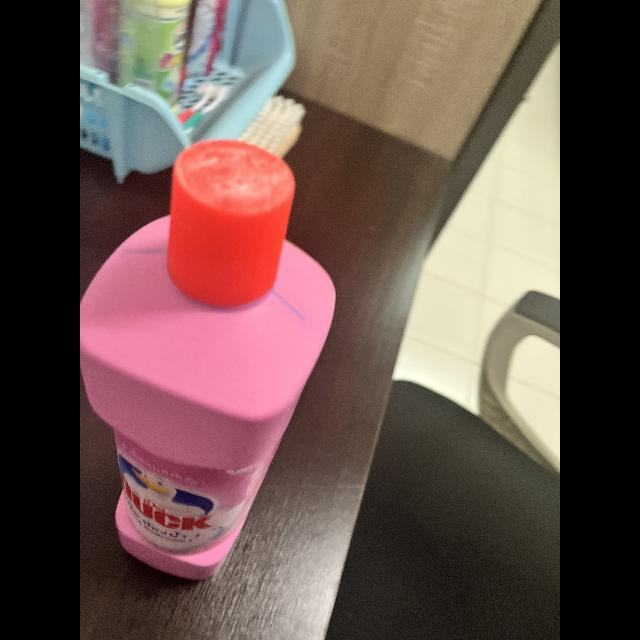chemical_plastic_bottle: (80, 136, 344, 584)
